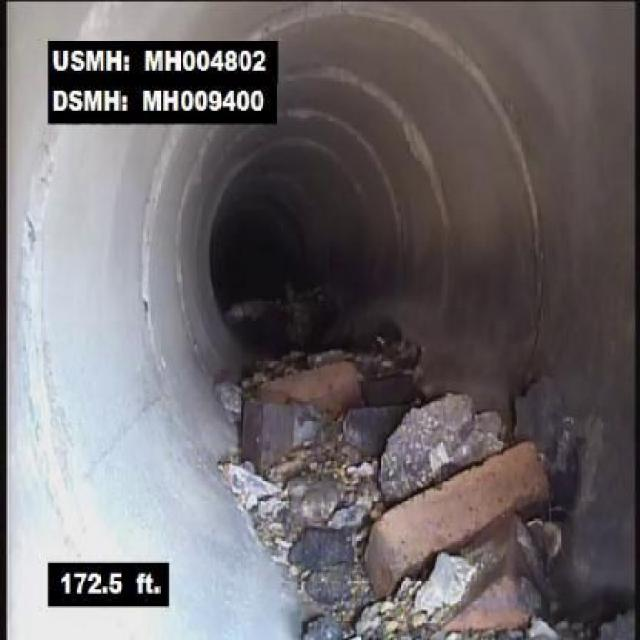Obstacle: (236, 352, 564, 634)
